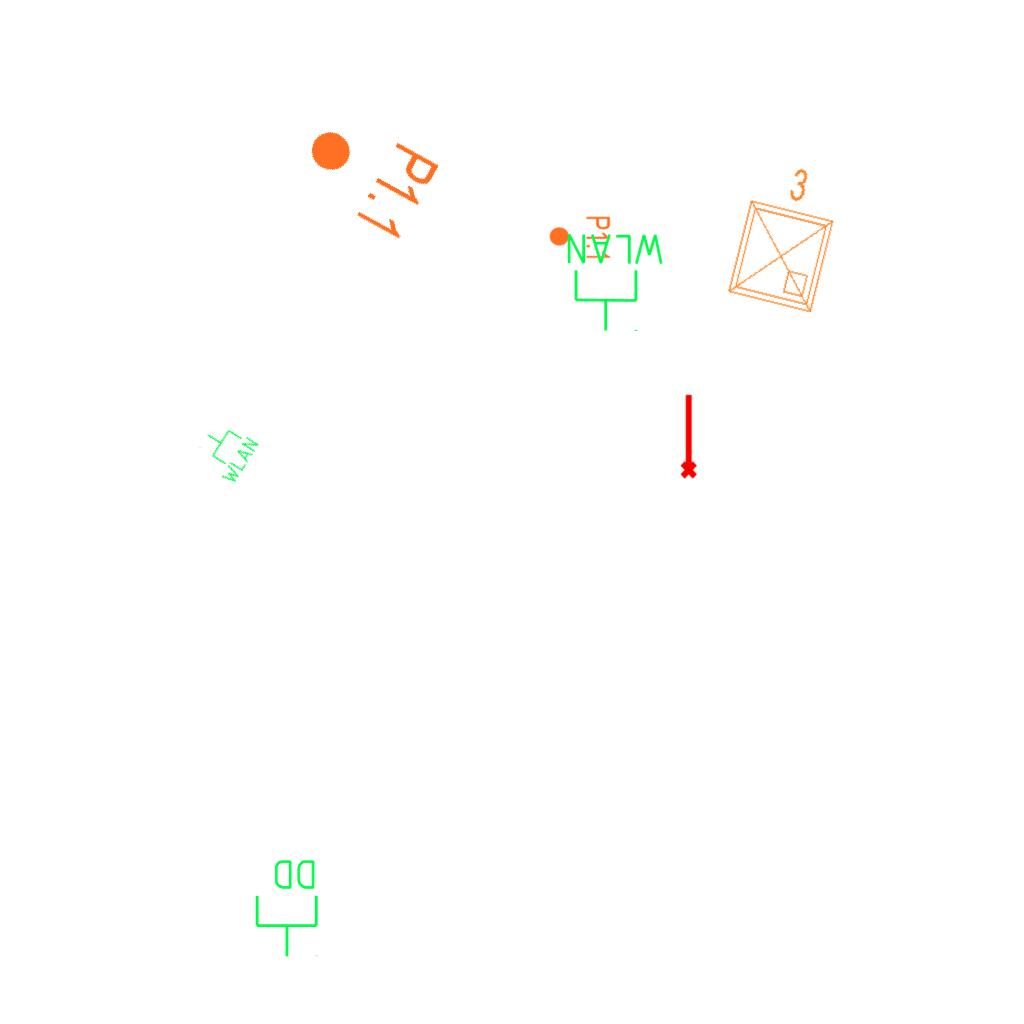ASR_Ansaugoeffnung: (676, 392, 699, 480)
Datenanschluss_zweifach: (253, 856, 322, 959)
Downlight_LED_Einbauleuchten_Flur: (286, 102, 445, 246), (548, 215, 612, 261)
Einbaudownlights_LED_Konferenzraeume: (715, 150, 853, 322)
WLAN: (563, 230, 668, 334), (190, 416, 262, 488)
